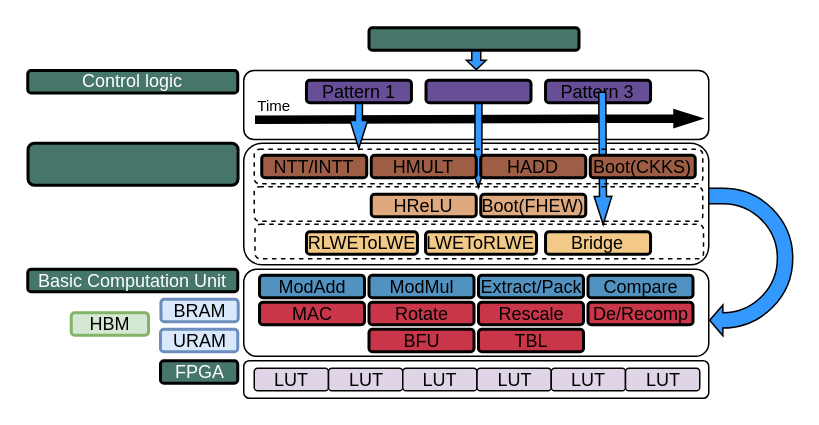
The diagram is 819 pixels wide and 425 high, and some of its shapes have lost their labels. The shapes that lost their labels are listed below. From the top down, each one's centre as x and y in pixels, then its label:
At point (473, 38): "Micro Pseudo-ISA".
At point (478, 91): "Pattern 2".
At point (132, 163): "Fine-Grained Computation unit".
